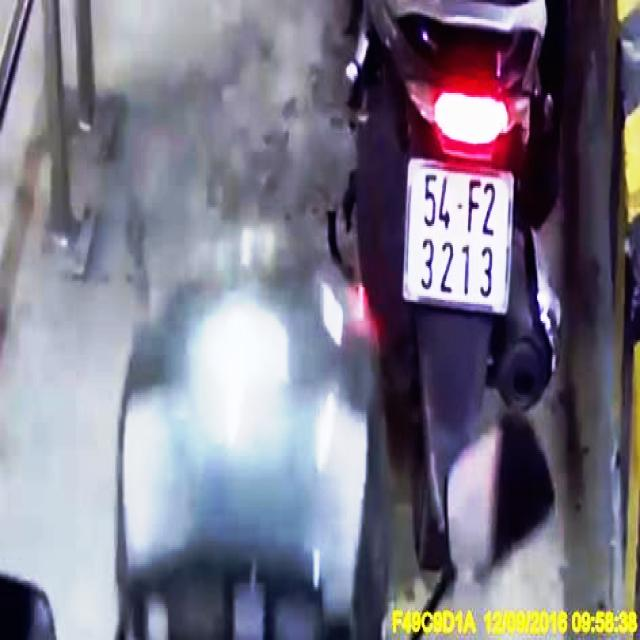license_plate: (403, 164, 512, 313)
